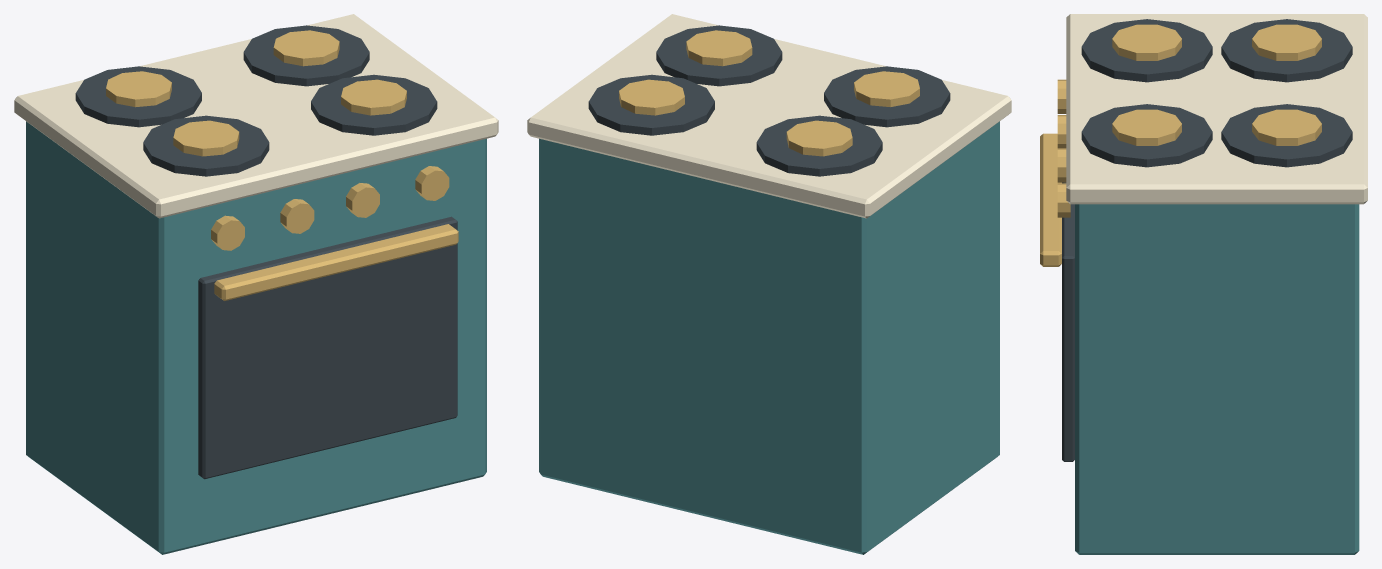
File: SM_CH_Paper_Stove.fbx
The picture shows the model from 3 angles, left to right: view 1: azimuth 30°, elevation 25°; view 2: azimuth 150°, elevation 25°; view 3: azimuth 270°, elevation 25°; orthographic projection. The views are drawn at different scales.
Visible parts, largest first — view 1: SM_CH_Paper_Stove; view 2: SM_CH_Paper_Stove; view 3: SM_CH_Paper_Stove.
Boxes of the visible parts, bbox=[...] form: SM_CH_Paper_Stove: bbox=[14, 14, 498, 554]; SM_CH_Paper_Stove: bbox=[527, 14, 1011, 554]; SM_CH_Paper_Stove: bbox=[1040, 14, 1367, 554].
Size of the model in its own units: 9400 by 7500 by 9900.
